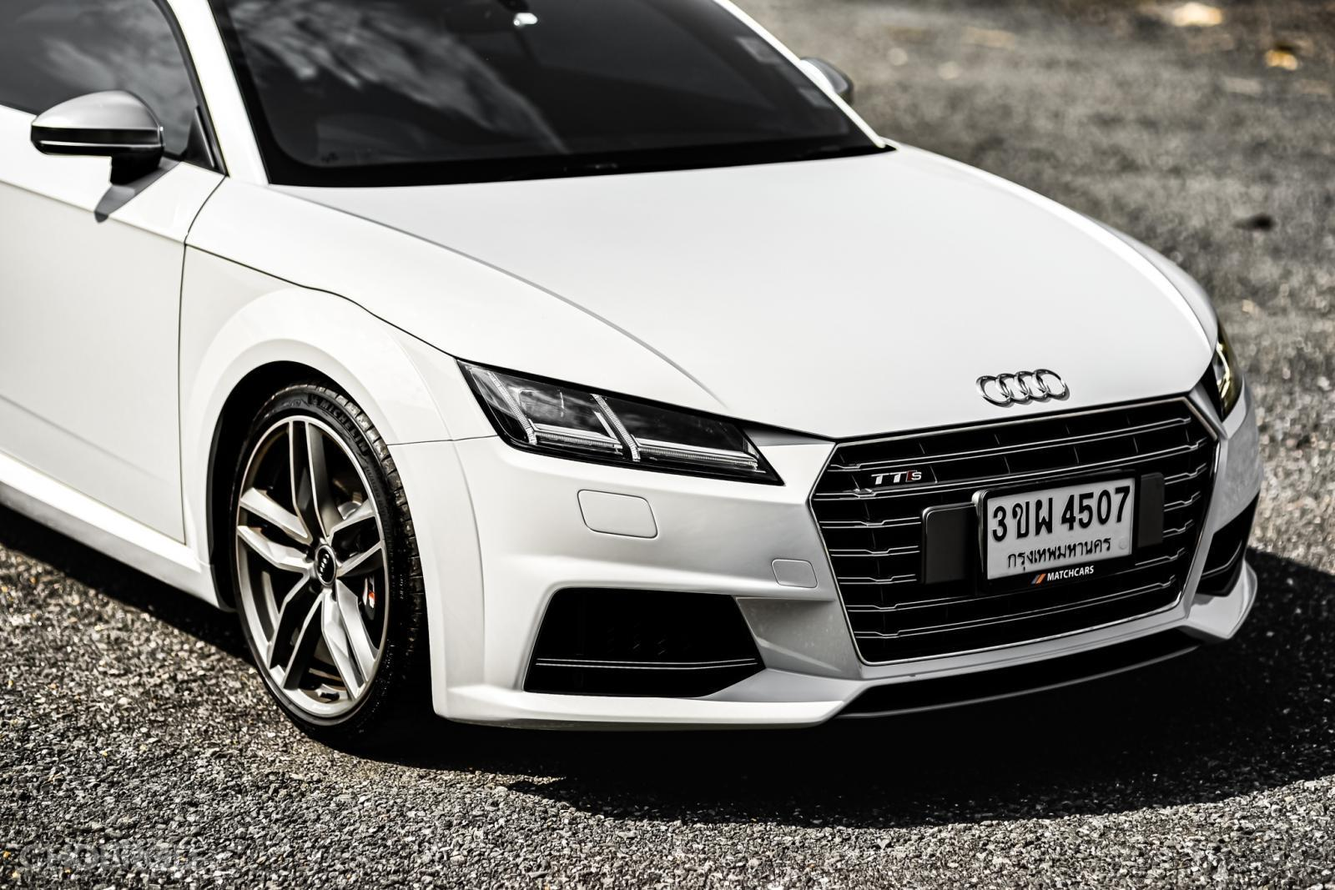license-plate: (975, 468, 1146, 591)
